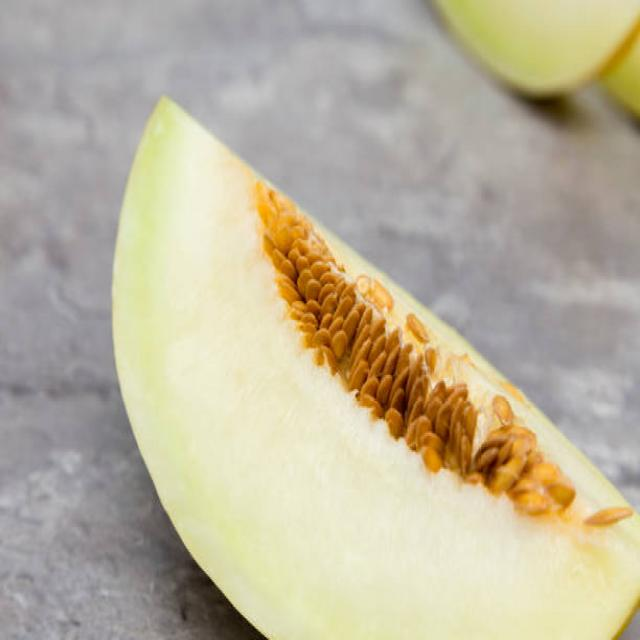melon: (111, 91, 625, 640)
